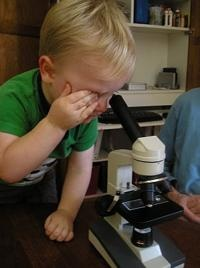person without safety: (1, 1, 140, 212)
